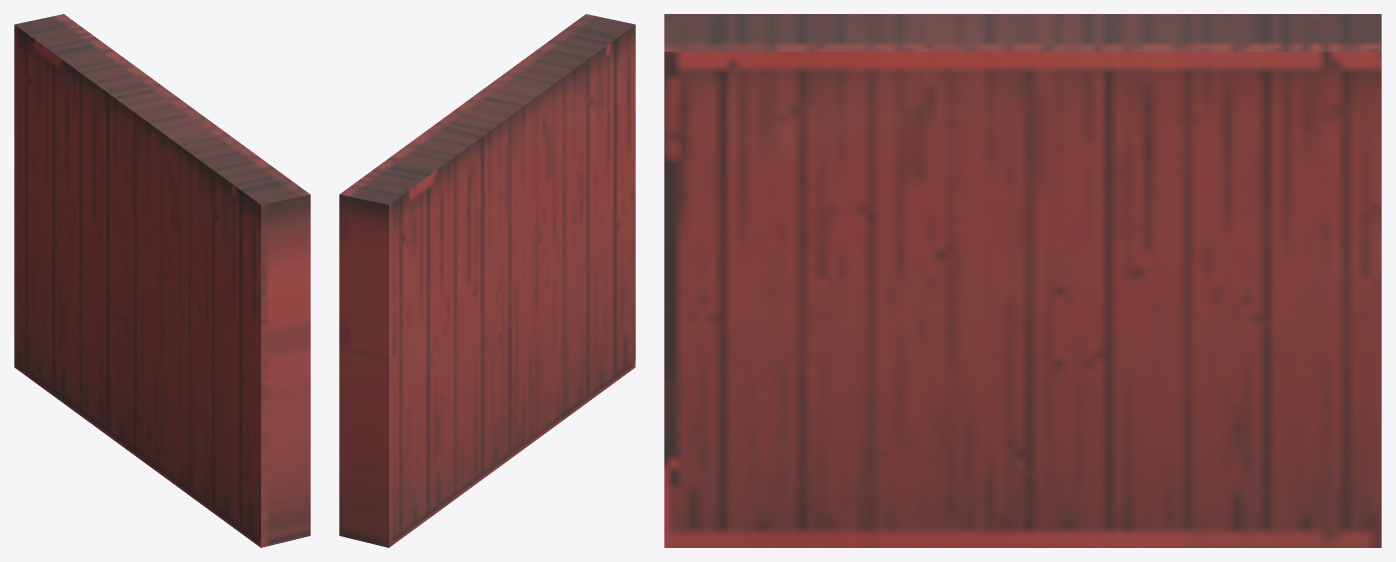
The model's file is bSide.obj.
The picture shows the model from 3 angles, left to right: view 1: azimuth 30°, elevation 25°; view 2: azimuth 150°, elevation 25°; view 3: azimuth 270°, elevation 25°; orthographic projection. The views are drawn at different scales.
Visible parts, largest first — view 1: farm_barn_farm_barn_mesh.031_farm_barn_farm_barn_mesh.041; view 2: farm_barn_farm_barn_mesh.031_farm_barn_farm_barn_mesh.041; view 3: farm_barn_farm_barn_mesh.031_farm_barn_farm_barn_mesh.041.
Boxes of the visible parts, x1=… form: farm_barn_farm_barn_mesh.031_farm_barn_farm_barn_mesh.041: x1=14, y1=14, x2=310, y2=547; farm_barn_farm_barn_mesh.031_farm_barn_farm_barn_mesh.041: x1=339, y1=14, x2=635, y2=547; farm_barn_farm_barn_mesh.031_farm_barn_farm_barn_mesh.041: x1=664, y1=14, x2=1381, y2=547.
Size of the model in its own units: 0.3578 by 2.36 by 3.08.
